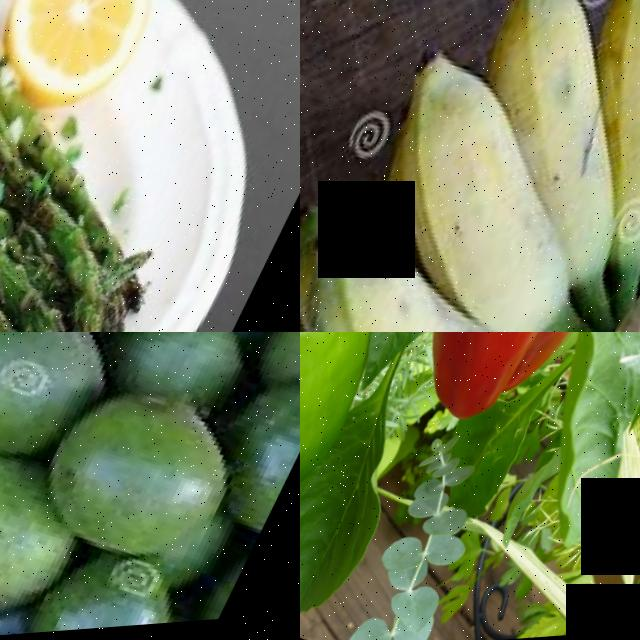asparagus: (0, 124, 168, 332)
avocado: (39, 371, 282, 589), (0, 420, 123, 640), (179, 353, 300, 549), (0, 332, 137, 486), (39, 532, 220, 639)
banana: (347, 15, 540, 259), (300, 208, 599, 332), (459, 0, 634, 124), (578, 0, 640, 143)
bell pepper: (398, 332, 640, 453), (300, 332, 446, 522)
